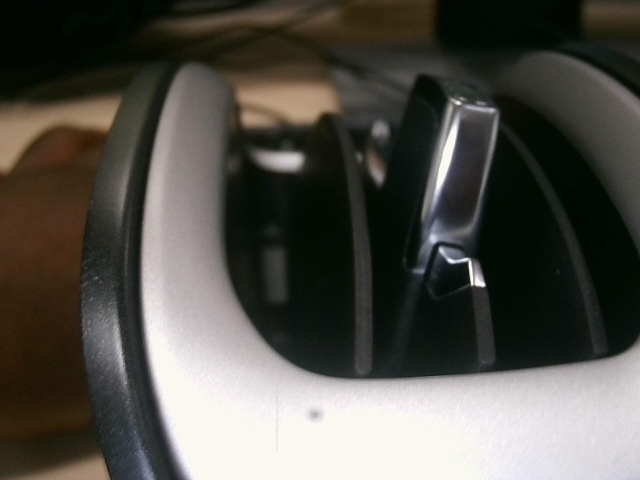NG: (264, 391, 300, 466), (78, 254, 107, 317)
